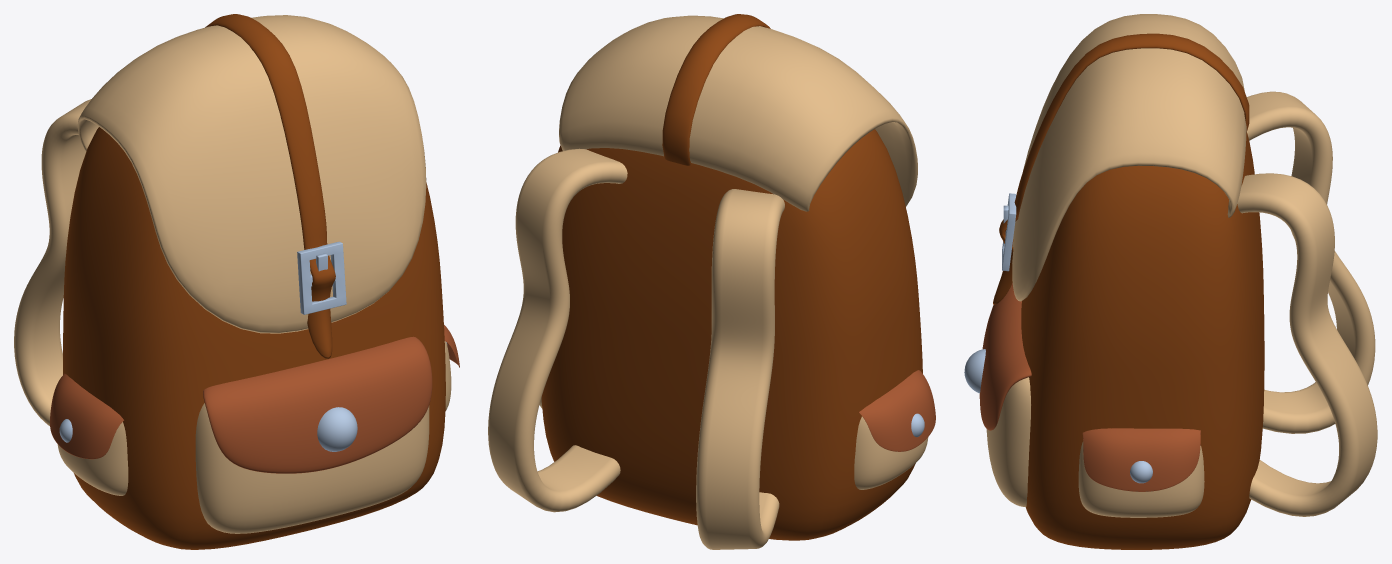
File: bag.fbx
3 views of the same model, side by side, from view 1: azimuth 30°, elevation 25°; view 2: azimuth 150°, elevation 25°; view 3: azimuth 270°, elevation 25° (orthographic). The views are drawn at different scales.
Parts seen in each view (by area): view 1: 立方體.002, 立方體, 立方體.003, 立方體.001, Nurbs路徑, 立方體.004, 立方體.006, 立方體.005, 平面.001, 球體.002; view 2: 立方體, 立方體.002, Nurbs路徑, Nurbs路徑.001, 立方體.004, 立方體.006, 立方體.005; view 3: 立方體, 立方體.002, Nurbs路徑.001, Nurbs路徑, 立方體.006, 立方體.004, 立方體.003, 立方體.005, 立方體.001, 平面.001, 球體.002.
Part boxes in pixels (x1,y1,x2,y2): 立方體.002: [77, 15, 426, 333]; 立方體: [63, 127, 445, 549]; 立方體.003: [203, 336, 432, 473]; 立方體.001: [195, 403, 429, 533]; Nurbs路徑: [14, 99, 91, 425]; 立方體.004: [205, 14, 335, 358]; 立方體.006: [50, 325, 459, 459]; 立方體.005: [57, 341, 451, 495]; 平面.001: [297, 241, 346, 314]; 球體.002: [317, 407, 357, 451]; 立方體: [541, 129, 922, 540]; 立方體.002: [559, 15, 917, 211]; Nurbs路徑: [696, 189, 784, 549]; Nurbs路徑.001: [488, 148, 627, 512]; 立方體.004: [662, 14, 770, 165]; 立方體.006: [859, 370, 935, 451]; 立方體.005: [539, 397, 928, 489]; 立方體: [1021, 132, 1264, 549]; 立方體.002: [1012, 14, 1246, 301]; Nurbs路徑.001: [1237, 173, 1377, 516]; Nurbs路徑: [1247, 91, 1375, 433]; 立方體.006: [1082, 428, 1200, 491]; 立方體.004: [993, 33, 1249, 304]; 立方體.003: [979, 283, 1031, 430]; 立方體.005: [1078, 441, 1204, 517]; 立方體.001: [986, 377, 1030, 506]; 平面.001: [1002, 193, 1016, 271]; 球體.002: [964, 349, 985, 393].
Bounding box in the file's own units: 2199 × 2608 × 2081.
